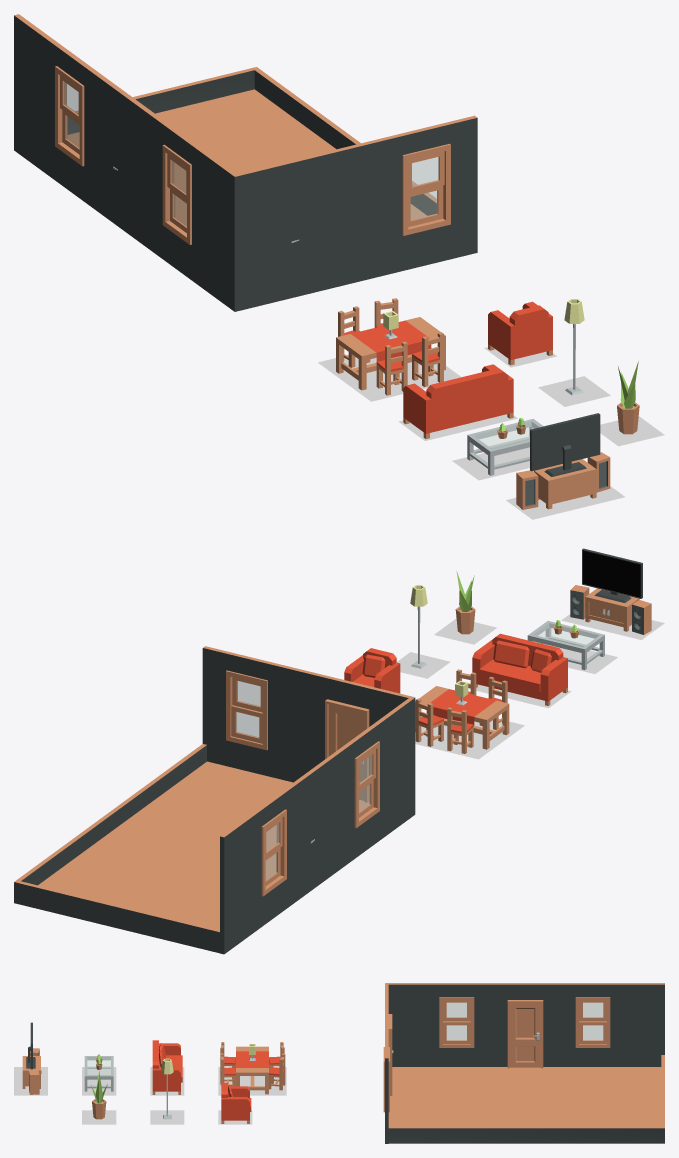
The model's file is furniture.glb.
The picture shows the model from 3 angles, top to bottom: view 1: azimuth 30°, elevation 25°; view 2: azimuth 150°, elevation 25°; view 3: azimuth 270°, elevation 25°; orthographic projection. The views are drawn at different scales.
Visible parts, largest first — view 1: roomWall1, roomWall2, roomWall3, roomFloor1, sofa, television, table, armchair, roomWallDown1, roomWallDown2, coffeeTable, televisionCabinet (+11 smaller); view 2: roomFloor1, roomWall1, roomWall3, roomWall2, roomWallDown2, roomWallDown1, sofa, television, table, roomDoor1, coffeeTable, armchair (+11 smaller); view 3: roomFloor1, roomWall3, roomWall2, roomWallDown1, roomDoor2, sofa, table, armchair, roomWall1, coffeeTable, tableGround, coffeeTableGround (+12 smaller).
Part boxes in pixels (x1,y1,x2,y2): roomWall1: (232, 115, 477, 311); roomWall2: (122, 93, 238, 311); roomWall3: (14, 14, 126, 229); roomFloor1: (67, 89, 426, 225); sofa: (403, 364, 513, 438); television: (530, 413, 600, 476); table: (336, 317, 445, 390); armchair: (488, 301, 552, 365); roomWallDown1: (254, 69, 436, 215); roomWallDown2: (67, 67, 258, 134); coffeeTable: (467, 418, 543, 475); televisionCabinet: (534, 459, 596, 509); roomFloor1: (38, 761, 369, 929); roomWall1: (202, 646, 414, 782); roomWall3: (220, 766, 322, 954); roomWall2: (314, 697, 415, 885); roomWallDown2: (14, 880, 219, 953); roomWallDown1: (16, 744, 206, 885); sofa: (472, 633, 567, 705); television: (582, 548, 642, 602); table: (415, 686, 509, 749); roomDoor1: (325, 699, 369, 802); coffeeTable: (527, 621, 604, 669); armchair: (344, 648, 400, 693); roomFloor1: (388, 1067, 661, 1126); roomWall3: (521, 983, 664, 1066); roomWall2: (385, 983, 527, 1066); roomWallDown1: (388, 1127, 664, 1143); roomDoor2: (507, 1000, 543, 1068); sofa: (152, 1040, 182, 1094); table: (236, 1046, 268, 1094); armchair: (221, 1082, 251, 1123); roomWall1: (383, 983, 389, 1143); coffeeTable: (84, 1056, 113, 1091); tableGround: (218, 1067, 286, 1095); coffeeTableGround: (82, 1067, 116, 1095).
Size of the model in its own units: 5.26 by 2.77 by 19.11.
